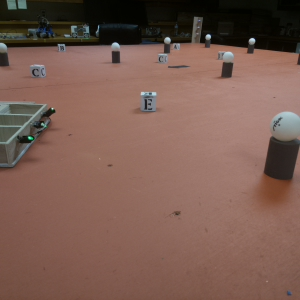blockA: (174, 43, 181, 49)
blockB: (57, 44, 66, 52)
blockC: (30, 63, 45, 79), (158, 52, 168, 65)
blockE: (140, 90, 156, 112)
corner: (192, 14, 203, 42)
obstacle: (264, 111, 299, 189), (109, 40, 123, 64), (223, 53, 233, 79), (1, 42, 8, 66), (246, 37, 255, 54), (164, 36, 172, 53), (204, 33, 212, 48)
side: (11, 102, 59, 166)
start: (169, 63, 190, 69)
